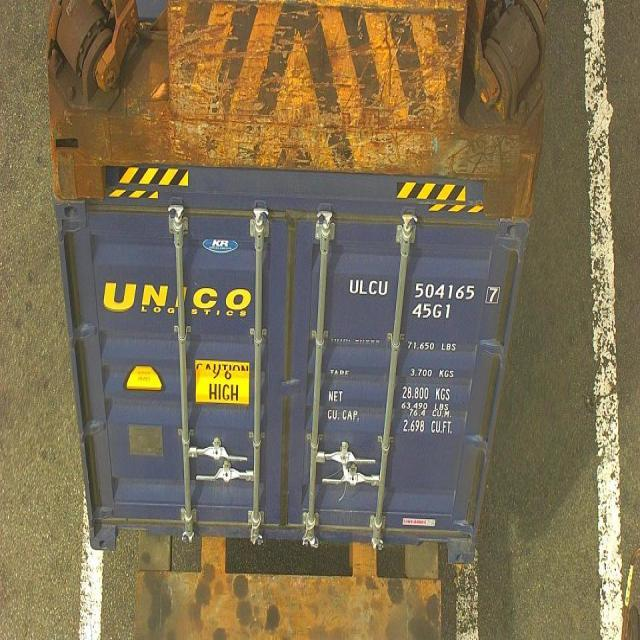ISO: (413, 302, 452, 320)
container_number: (348, 280, 500, 302)
